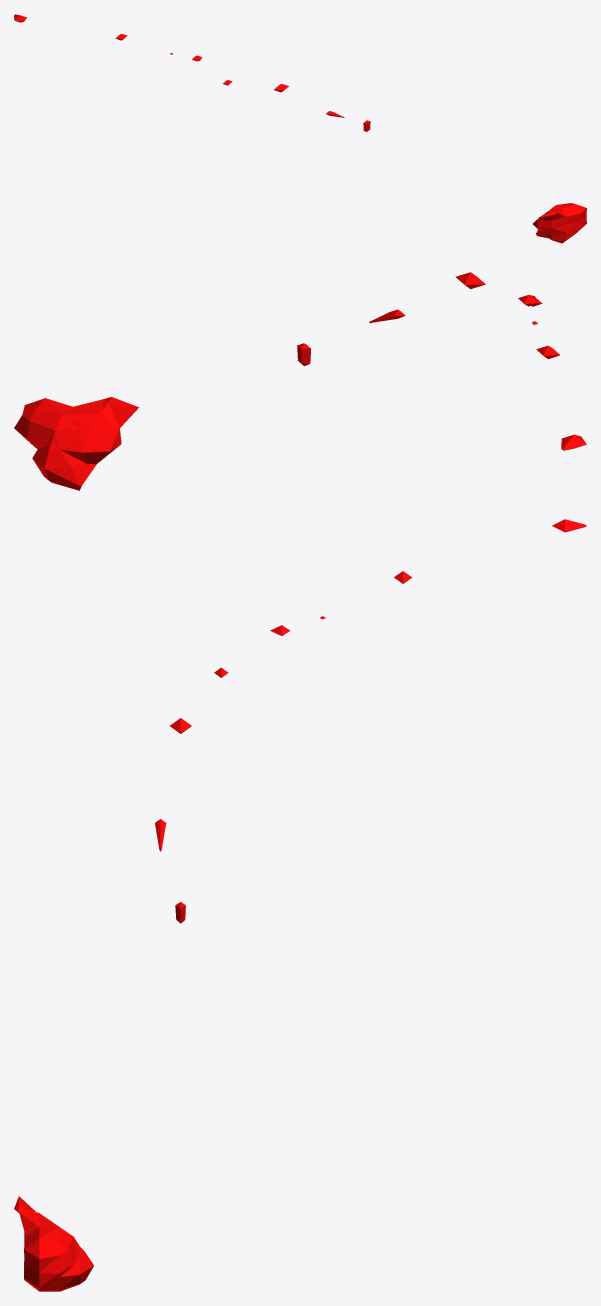
File: maeB_coarse.dae
The picture shows the model from 3 angles, top to bottom: view 1: azimuth 30°, elevation 25°; view 2: azimuth 150°, elevation 25°; view 3: azimuth 270°, elevation 25°; orthographic projection. The views are drawn at different scales.
Visible parts, largest first — view 1: maeB; view 2: maeB; view 3: maeB.
Boxes of the visible parts, x1,y1,x2,y2 form: maeB: (14, 14, 586, 243); maeB: (14, 272, 586, 490); maeB: (14, 519, 586, 1291).
Bounding box in the file's own units: 660 × 325 × 410.
